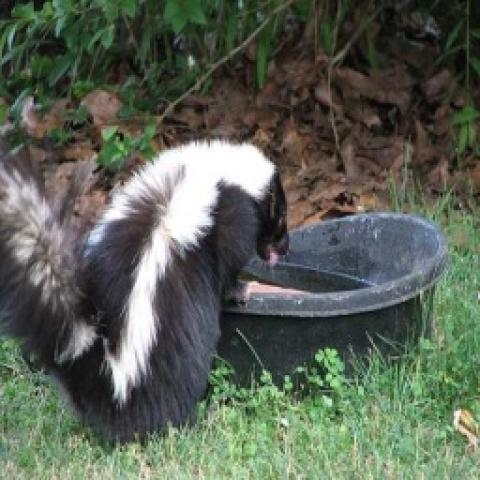small_animal: (0, 133, 291, 444)
